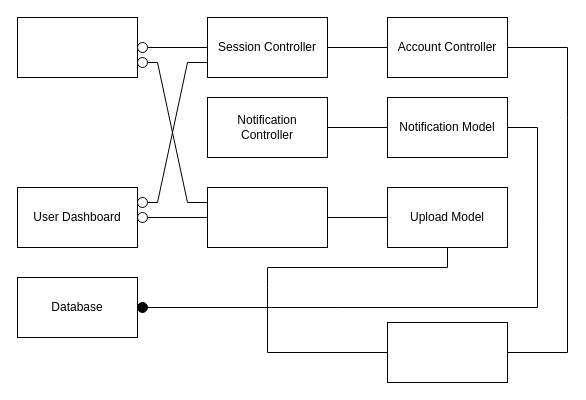
The diagram is 586 pixels wide and 400 high, and some of its shapes have lost their labels. The shapes that lost their labels are listed below. From the top down, each one's box as (x1, y1, x2, y2) in pixels, then its label:
(16, 16, 138, 78): Admin Dashboard
(206, 186, 328, 248): Upload Controller
(386, 322, 508, 382): Account Model
